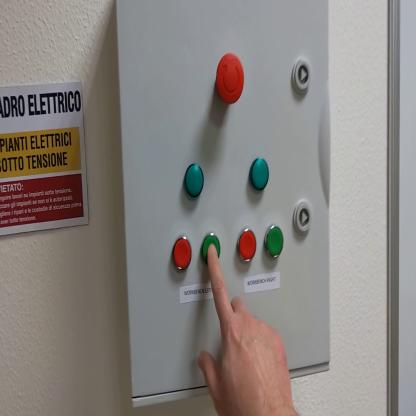hand: (197, 246, 295, 416)
left green button: (202, 232, 222, 266)
left red button: (173, 237, 193, 274)
right green button: (264, 223, 285, 260)
right red button: (238, 226, 258, 265)
